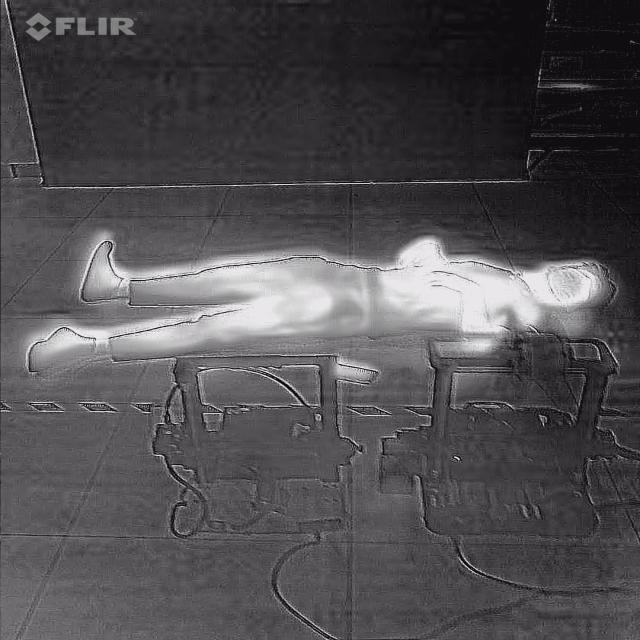Victim: (21, 234, 622, 377)
